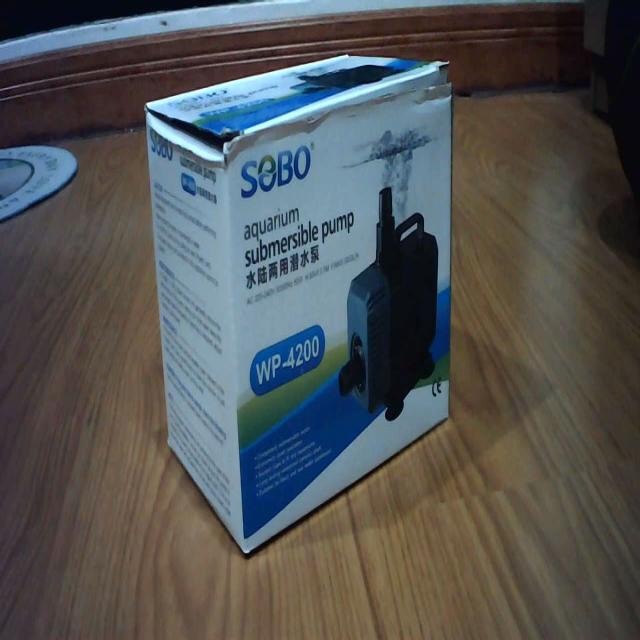SOBO_WP_4200: (138, 43, 465, 565)
